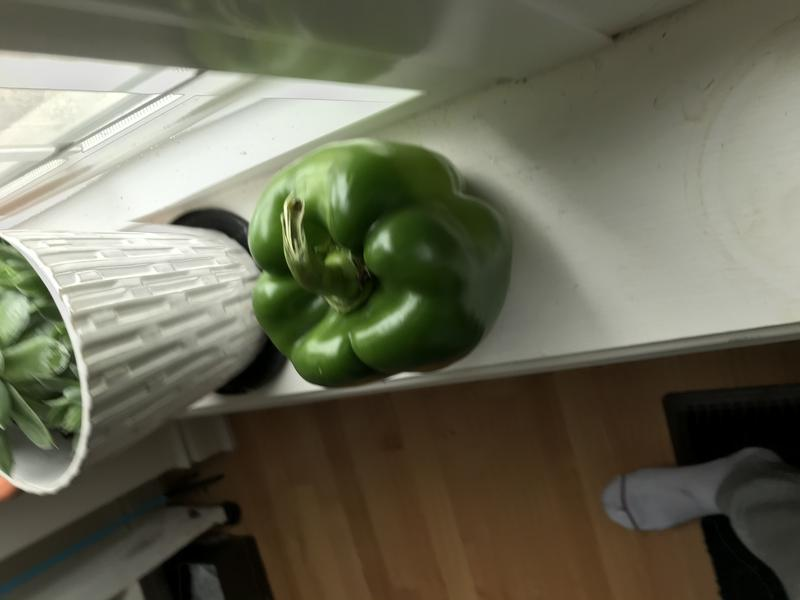green_pepper: (232, 131, 524, 393)
